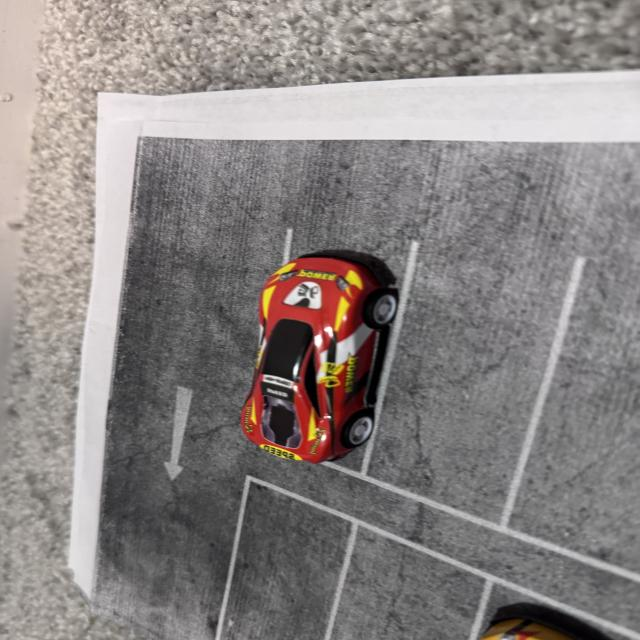car: (250, 228, 417, 438), (414, 607, 640, 640)
